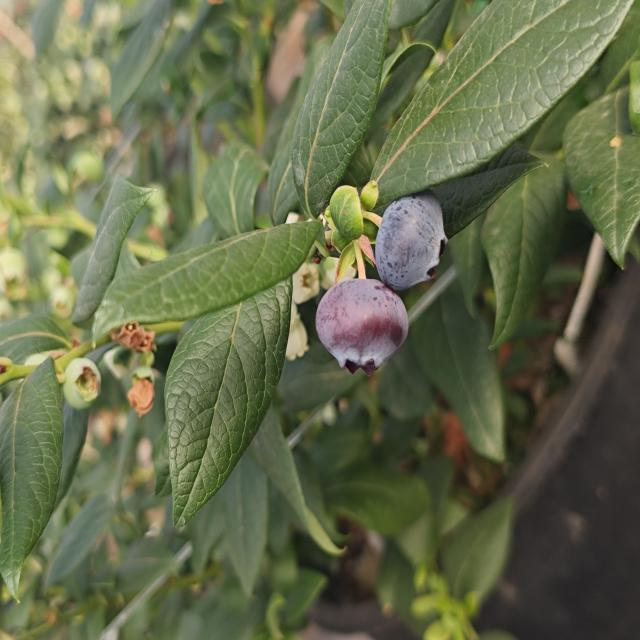ripe: (317, 247, 408, 376), (380, 197, 455, 290)
